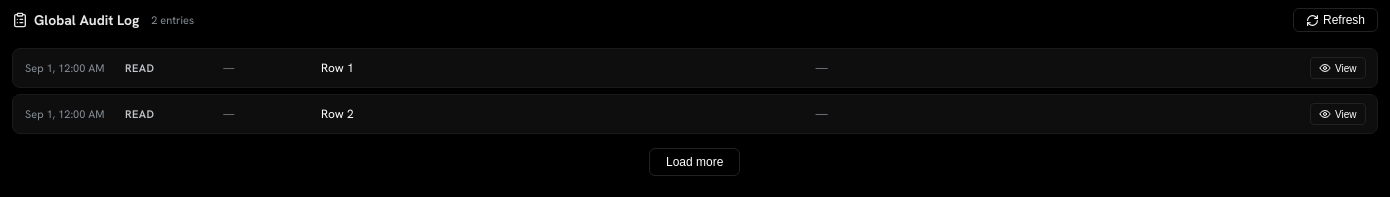
it: GlobalAuditTab › Load more never shows the same row twice when the feed grew between pages
Expected: the text "Row 2" is shown, [321,106,354,122]
Click the button "Load more": {"x": 695, "y": 162} [649,148,741,176]
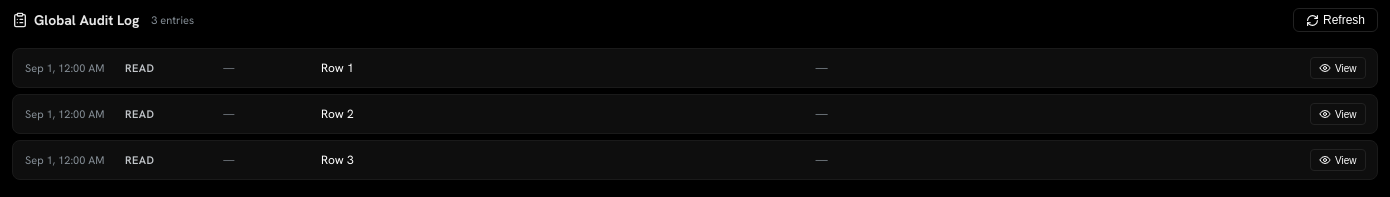
Expected: the text "Row 3" is shown, [321,152,354,168]
Expected: the text "Row 2" is shown once, [321,106,354,122]
